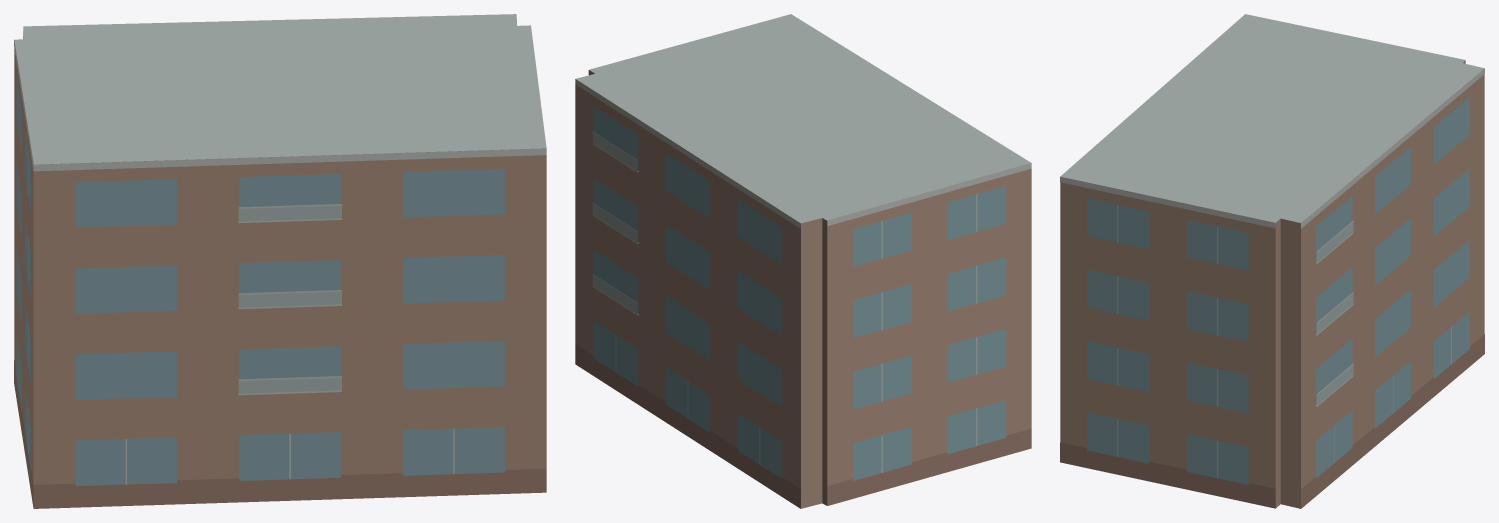
Rendered from survey-upis-32887867.glb.
3 views of the same model, side by side, from view 1: azimuth 30°, elevation 25°; view 2: azimuth 150°, elevation 25°; view 3: azimuth 270°, elevation 25° (orthographic). The views are drawn at different scales.
Parts seen in each view (by area): view 1: survey-upis-32887867.tmp; view 2: survey-upis-32887867.tmp; view 3: survey-upis-32887867.tmp.
Boxes of the visible parts, left/top/right/bottom form: survey-upis-32887867.tmp: left=14, top=14, right=546, bottom=508; survey-upis-32887867.tmp: left=575, top=14, right=1031, bottom=508; survey-upis-32887867.tmp: left=1060, top=14, right=1484, bottom=508.
Size of the model in its own units: 19.48 by 12.4 by 16.71.
